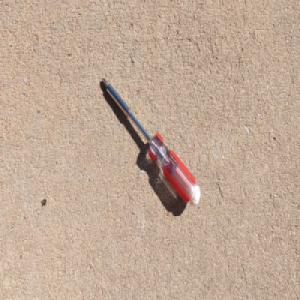Screwdriver: (100, 74, 202, 208)
